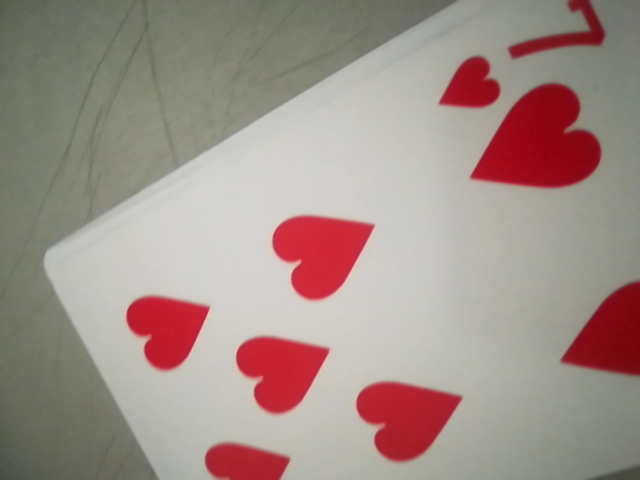hx 7: (441, 6, 618, 114)
